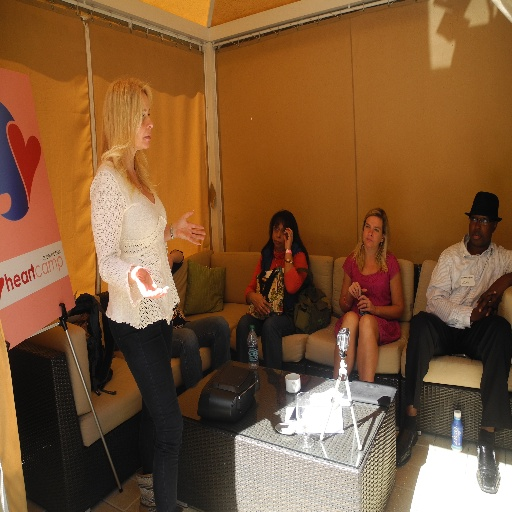hand: (131, 264, 170, 299), (473, 283, 504, 319), (177, 208, 203, 248), (475, 292, 496, 322), (252, 292, 272, 319), (346, 281, 369, 301), (354, 293, 374, 314), (282, 226, 293, 247)
